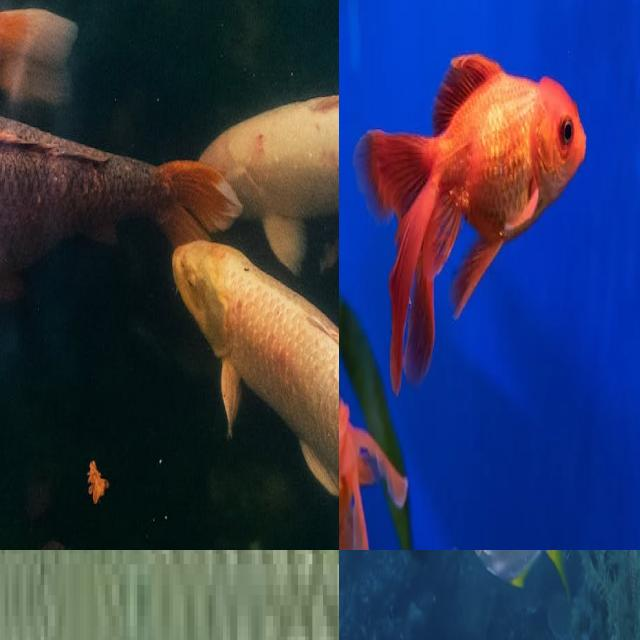fish: (0, 0, 339, 550), (0, 550, 339, 640)
